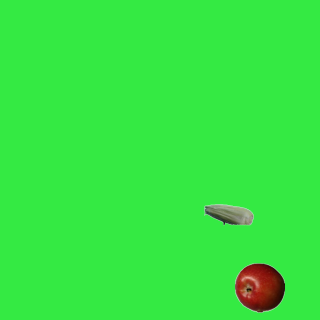Apple Braeburn: (234, 262, 284, 312)
Corn Husk: (203, 189, 253, 239)
